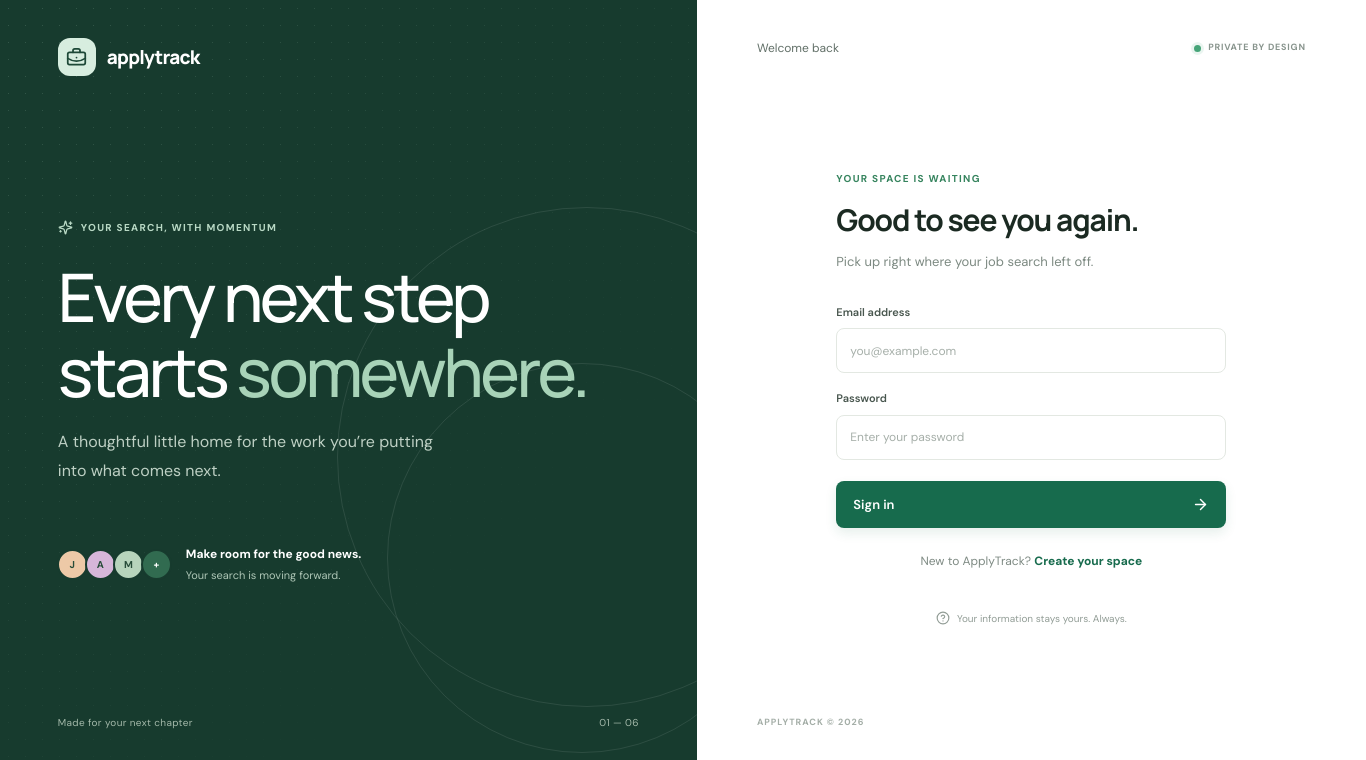
authentication flows › logs in, loads the dashboard and clears the session on logout
Type "taylor@example.com" into the field labelled "Email address" at (1031, 351), box [836,328,1226,373]
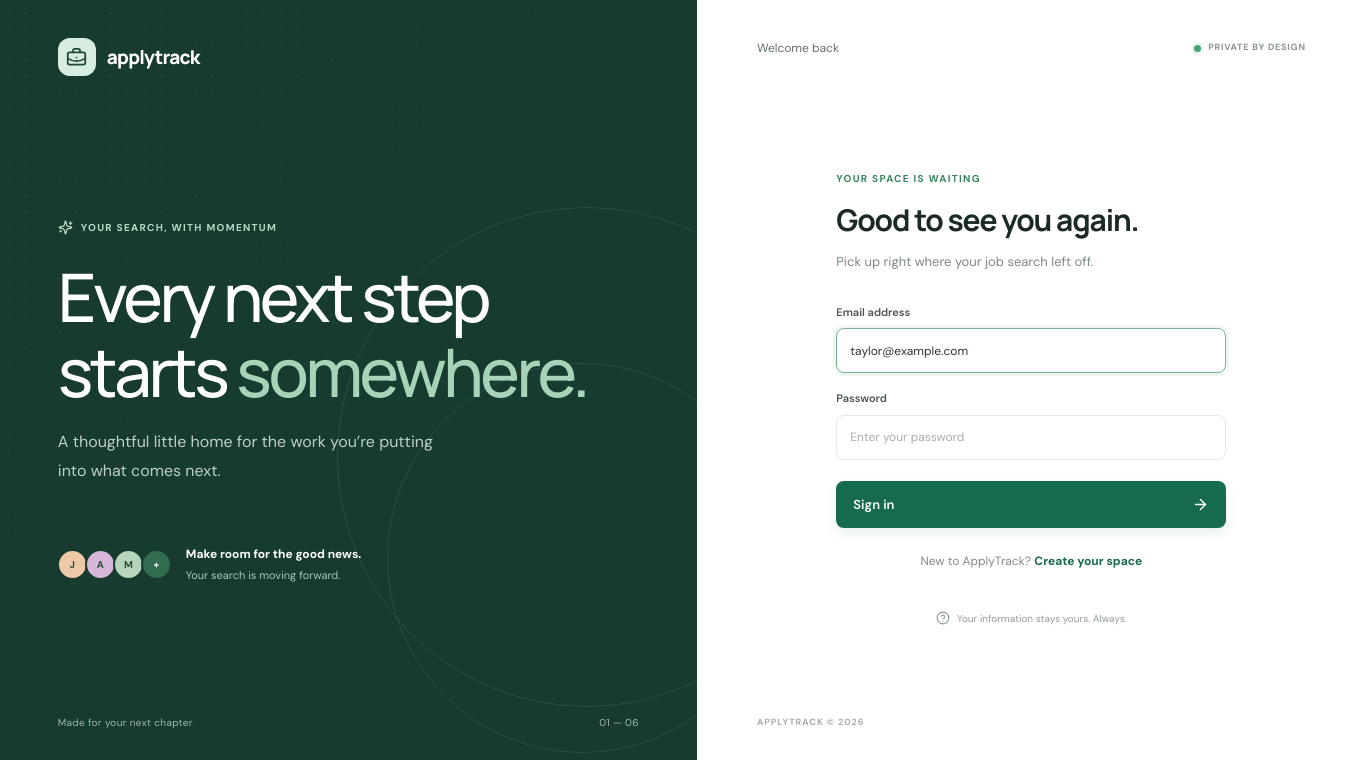
Type "correct-horse-battery" into the password field labelled "Password" at (1031, 437), box [836,415,1226,460]
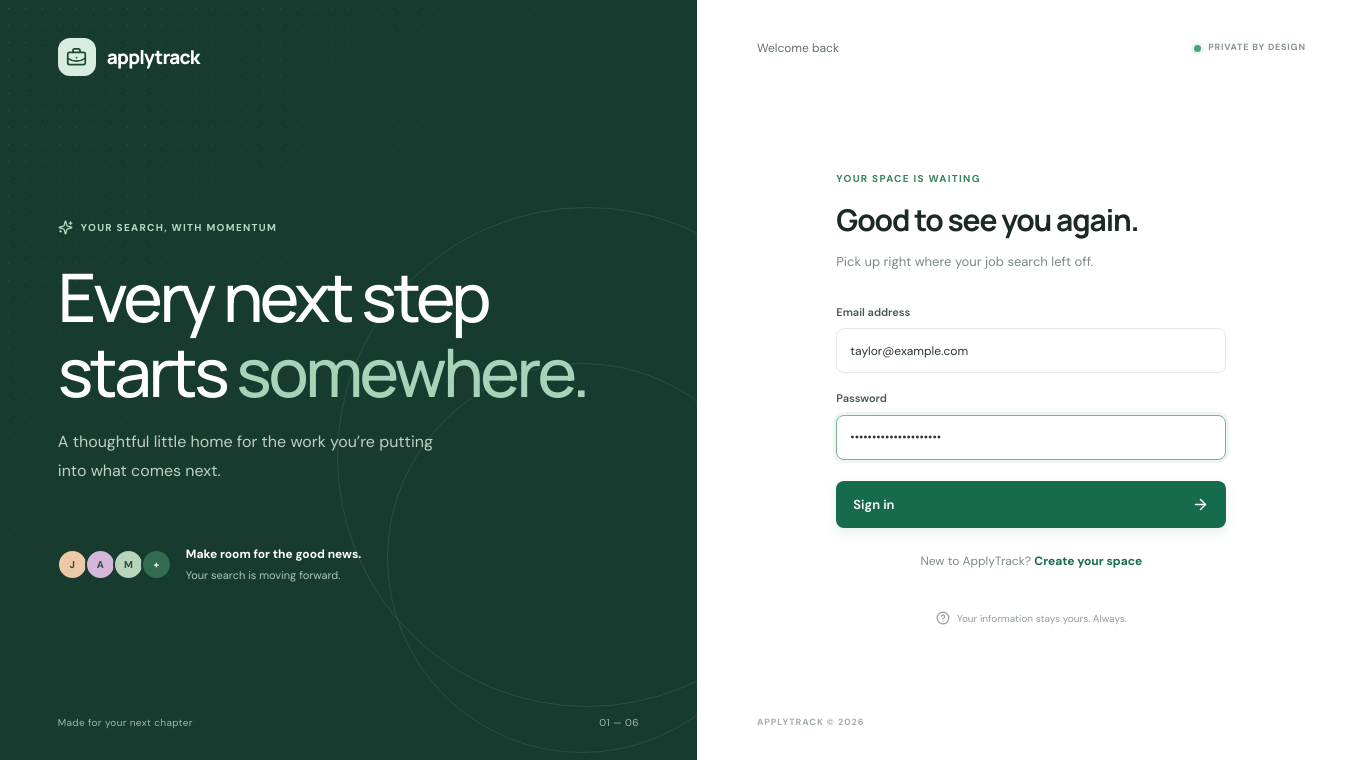
Click the button "Sign in" at (874, 504), box [836,481,1226,528]
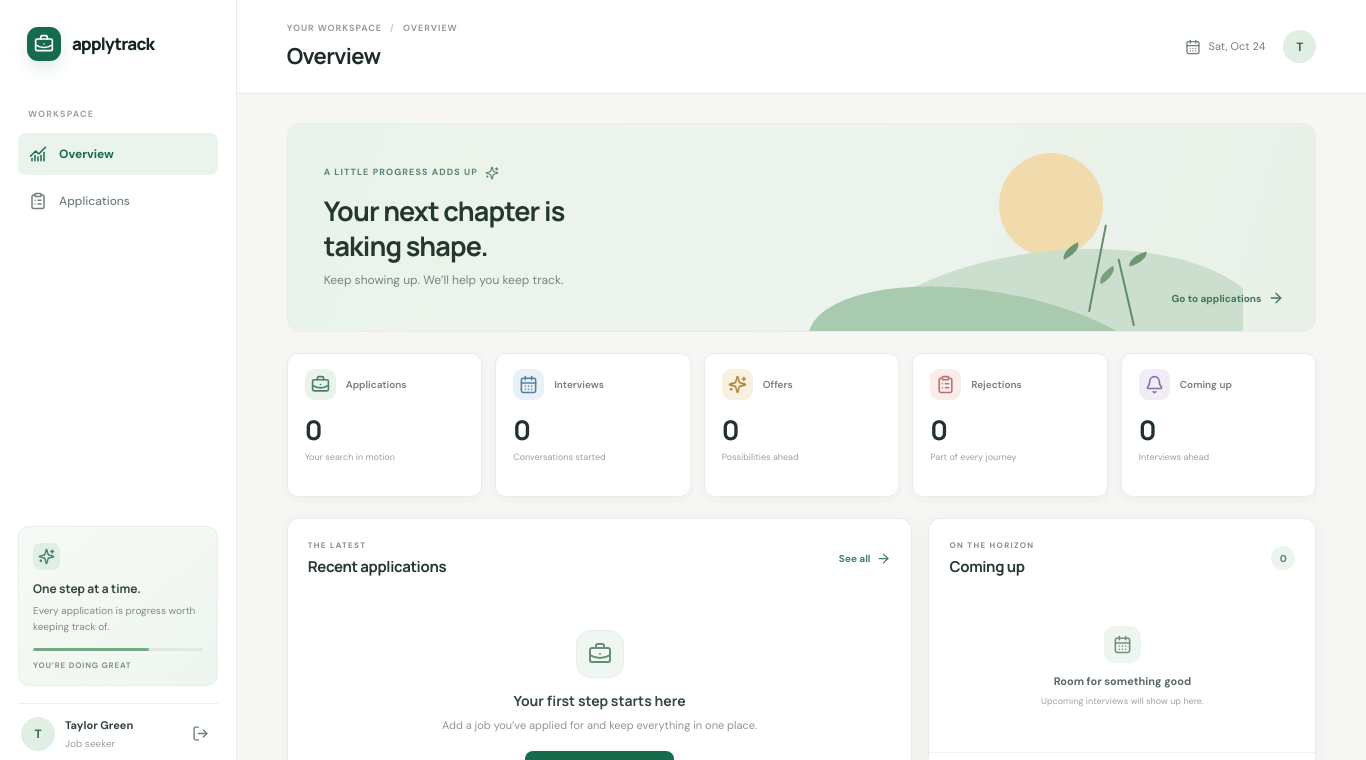
Result: the heading "Your next chapter is taking shape." is shown at [324,193,564,263]
Result: the text "Taylor Green" is shown at [65,718,133,732]
Click the button named "Log out" at (200, 734), box [185,719,215,749]
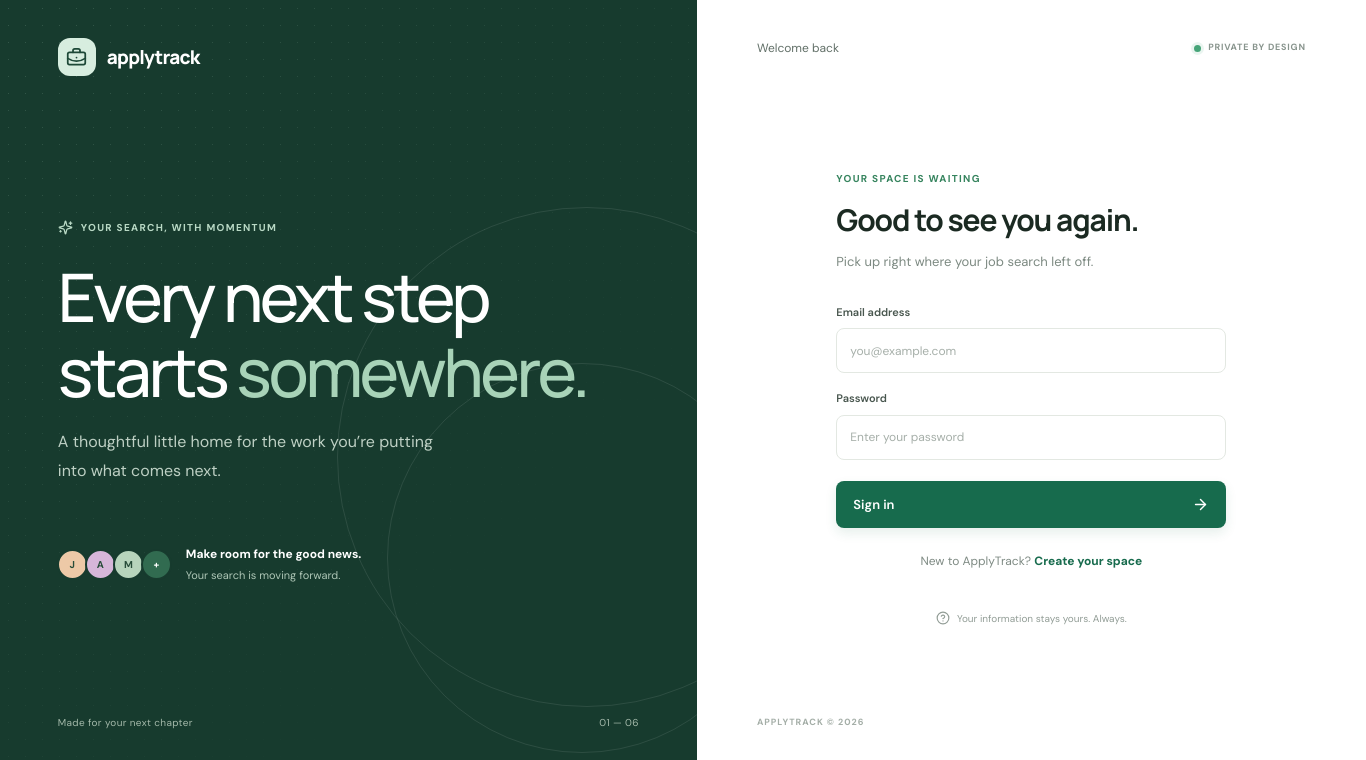
Result: the heading "Good to see you again." is shown at [836,199,1138,240]
